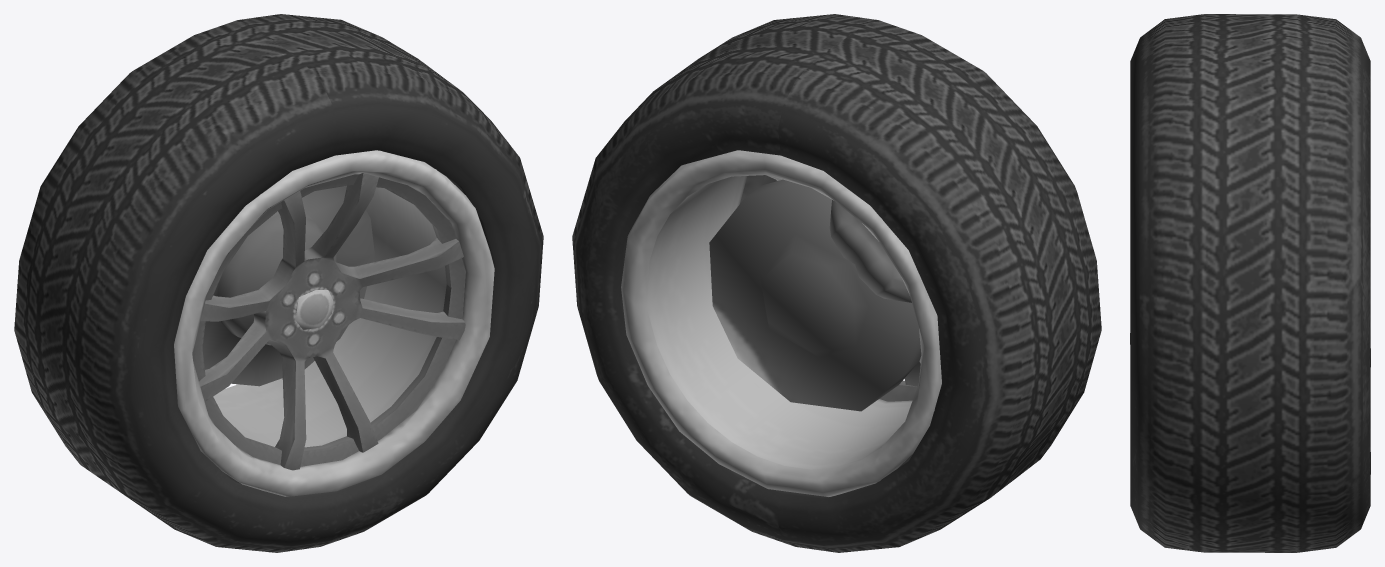
Rendered from SM_SportsCar_Wheel.glb.
3 renders of one model, left to right at view 1: azimuth 30°, elevation 25°; view 2: azimuth 150°, elevation 25°; view 3: azimuth 270°, elevation 25°, orthographic. The views are drawn at different scales.
Visible parts, largest first — view 1: SM_SportsCar_Wheel; view 2: SM_SportsCar_Wheel; view 3: SM_SportsCar_Wheel.
Part boxes in pixels (<box>): SM_SportsCar_Wheel: <box>14,14,543,552</box>; SM_SportsCar_Wheel: <box>572,14,1101,552</box>; SM_SportsCar_Wheel: <box>1130,14,1370,552</box>.
Size of the model in its own units: 0.7847 by 0.7846 by 0.35.
Materials: 2 (2 with a texture image).
